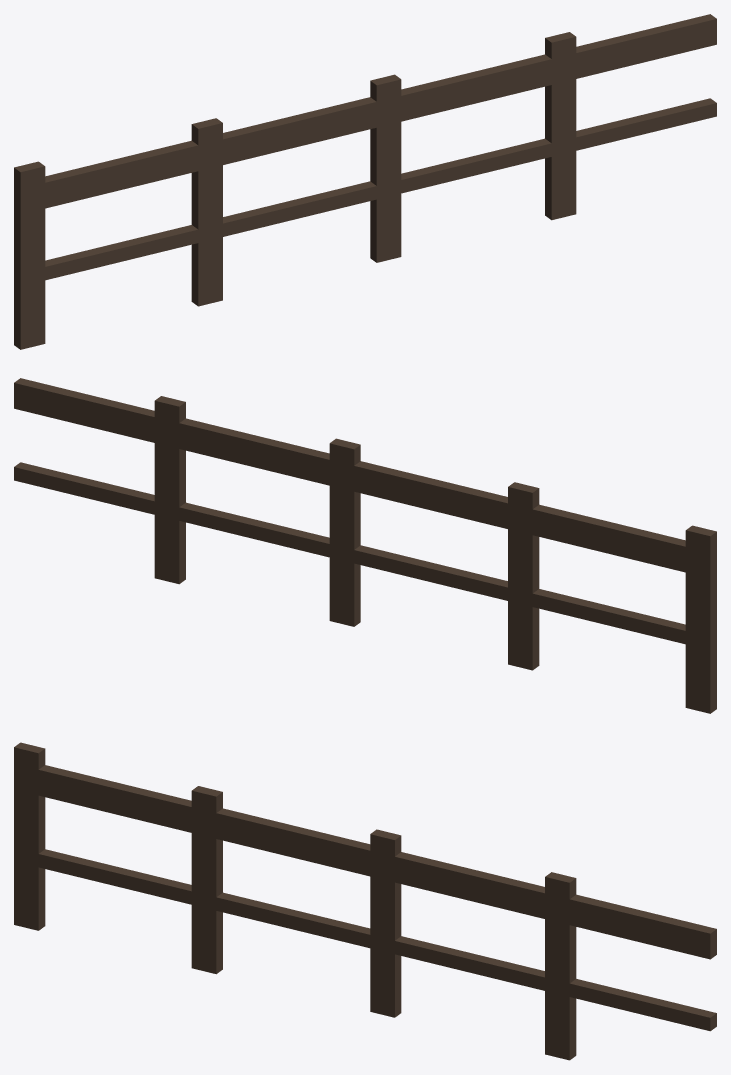
File: cercacjuntas.fbx
3 views of the same model, one above another, from view 1: azimuth 30°, elevation 25°; view 2: azimuth 150°, elevation 25°; view 3: azimuth 330°, elevation 25° (orthographic).
Visible parts, largest first — view 1: pCube14; view 2: pCube14; view 3: pCube14.
Boxes of the visible parts, <box> form: pCube14: <box>14,14,716,349</box>; pCube14: <box>14,378,716,713</box>; pCube14: <box>14,742,716,1060</box>.
Bounding box in the file's own units: 19.52 × 4.76 × 0.3174.
